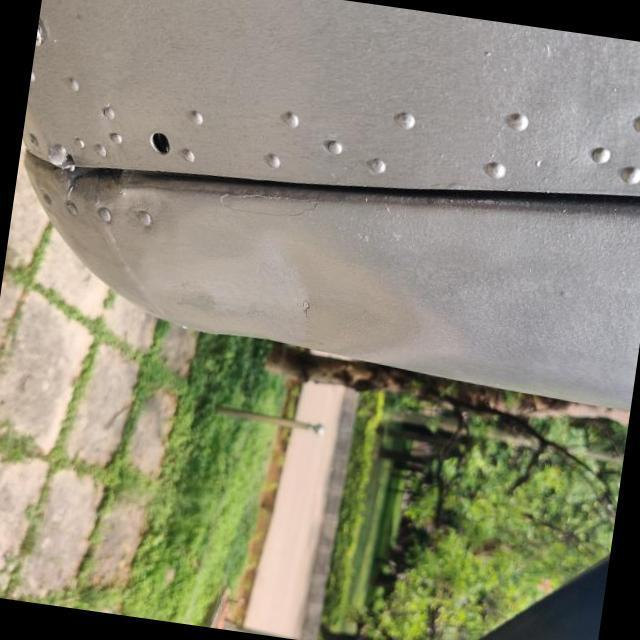Fastener Damage: (132, 118, 198, 187)
